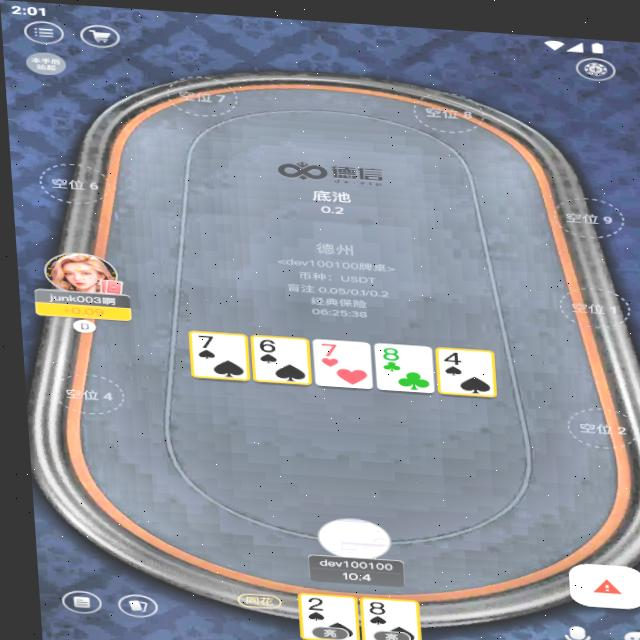2s: (296, 592, 320, 609)
4s: (437, 343, 462, 361)
6s: (248, 334, 276, 351)
7h: (313, 336, 338, 355)
7s: (190, 331, 217, 348)
8m: (374, 339, 401, 358)
8s: (356, 594, 383, 612)
